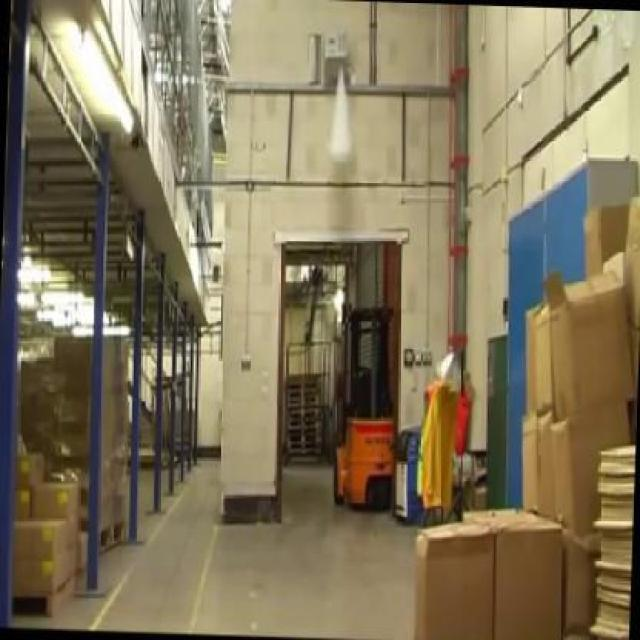fire: (322, 84, 356, 165)
